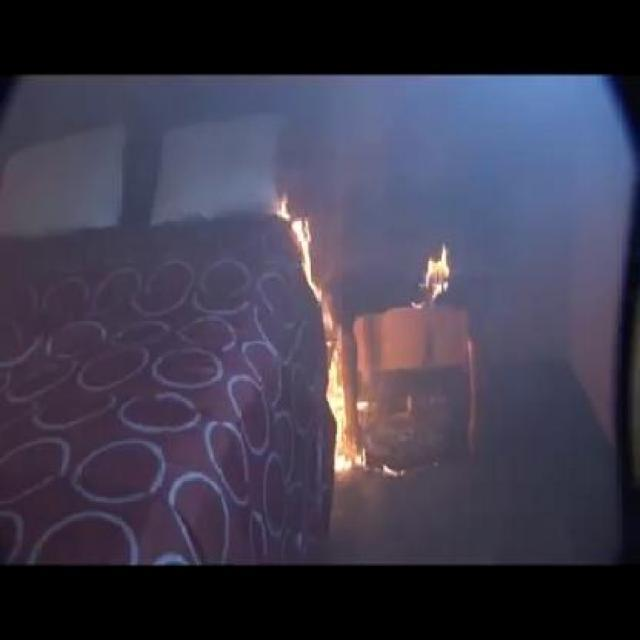fire: (278, 190, 402, 473), (409, 242, 469, 316)
